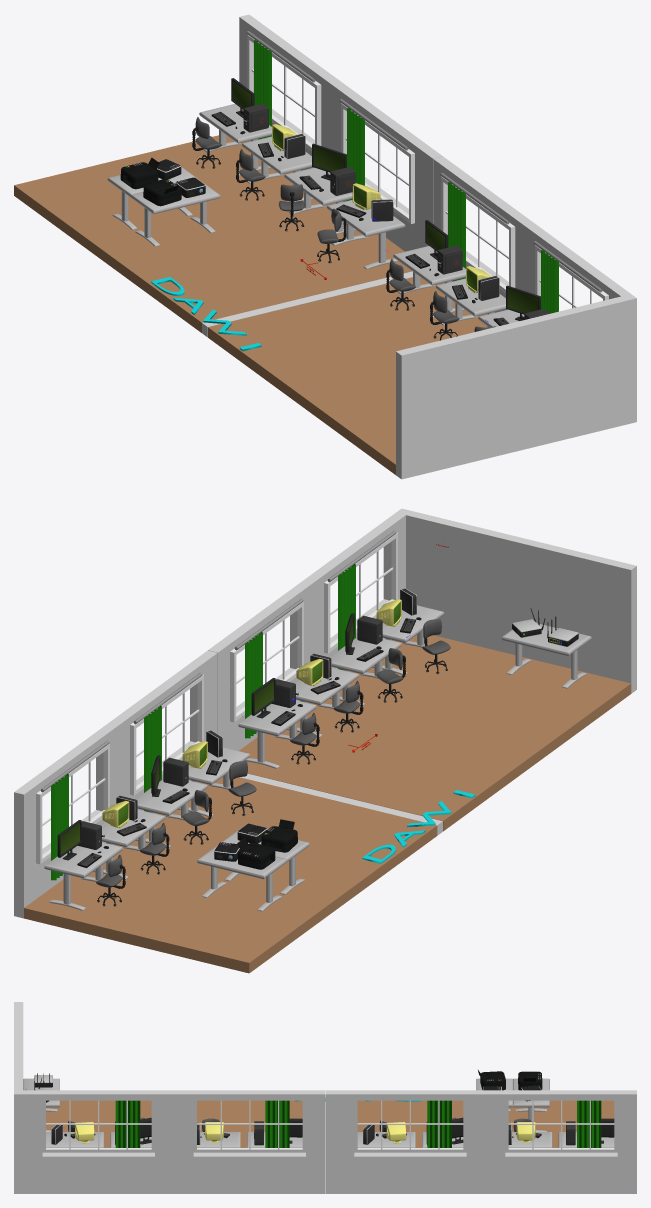
File: prueba.glb
3 renders of one model, top to bottom at view 1: azimuth 30°, elevation 25°; view 2: azimuth 150°, elevation 25°; view 3: azimuth 270°, elevation 25°, orthographic. The views are drawn at different scales.
Visible parts, largest first — view 1: Object_4, Object_30, Texto.011; view 2: Object_4, Object_30, Texto.011; view 3: Object_4.
Part boxes in pixels (x1,y1,x2,y2): Object_4: (14, 14, 636, 479); Object_30: (244, 31, 602, 298); Texto.011: (151, 277, 261, 351); Object_4: (14, 508, 636, 973); Object_30: (40, 530, 396, 853); Texto.011: (362, 790, 475, 863); Object_4: (14, 1002, 636, 1193).
Size of what is drawn, in the model's own units: 2.11 by 1.06 by 6.02.
7 materials, 2 textured.
